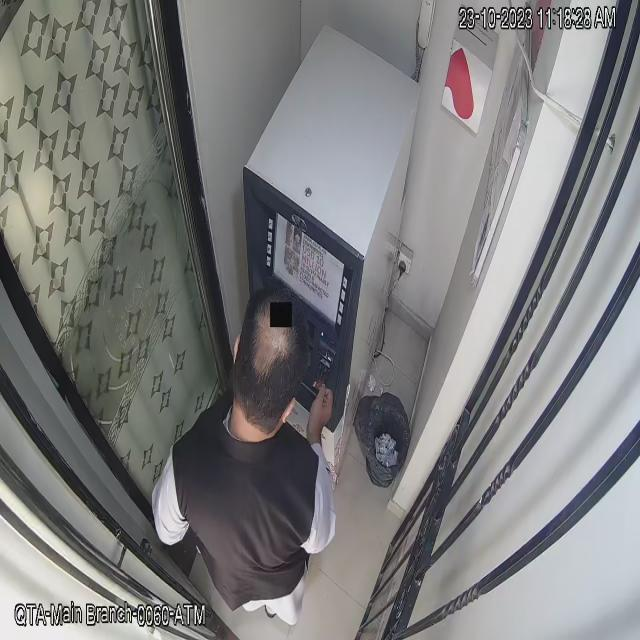atm-card: (308, 352, 336, 399)
